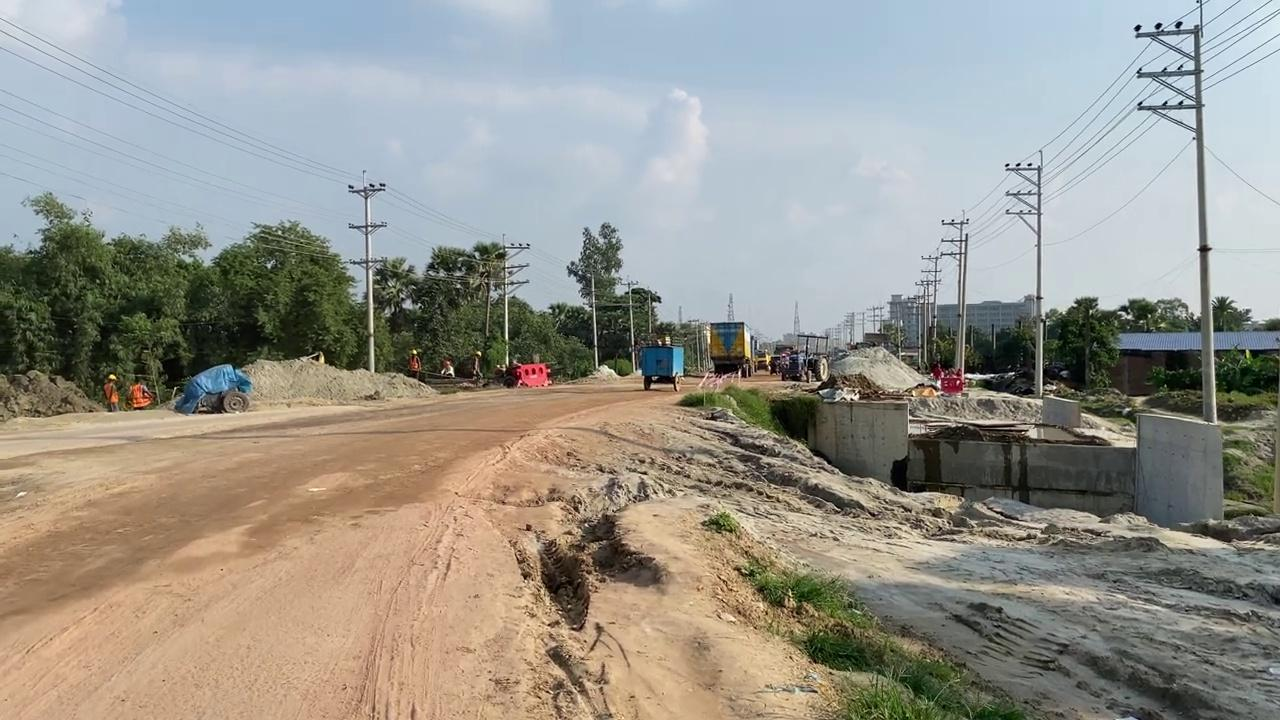Garbage: (173, 362, 253, 414)
Muddy road: (1, 370, 1277, 718)
Obstacle: (1040, 395, 1081, 428), (505, 362, 552, 387)
Pole: (1133, 10, 1218, 423), (1003, 157, 1044, 397), (346, 169, 387, 373), (497, 234, 530, 370)
Traffic-sign: (565, 220, 624, 370)
Tree: (705, 320, 754, 378), (416, 349, 486, 388), (777, 332, 829, 383), (639, 344, 684, 391), (753, 350, 772, 373)
